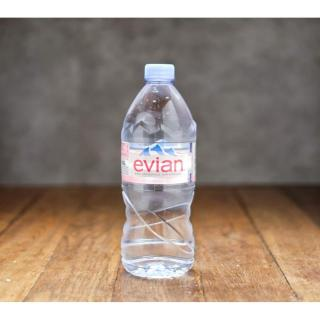Anorganik: (118, 55, 204, 279)
